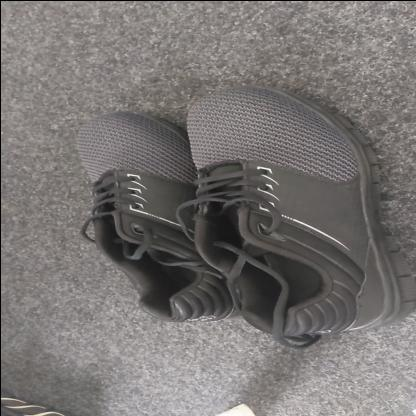safety-shoe: (72, 84, 415, 336)
